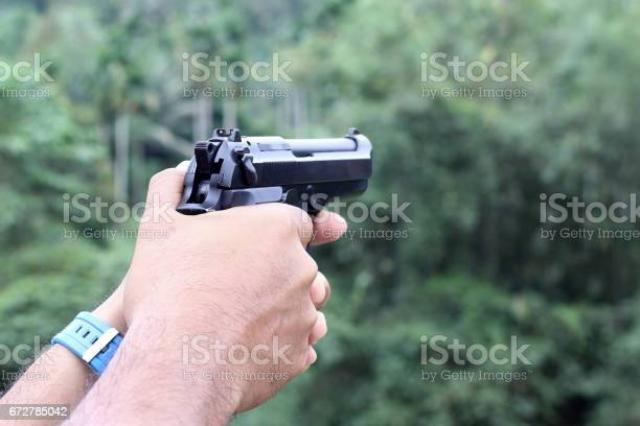handgun: (172, 122, 378, 266)
